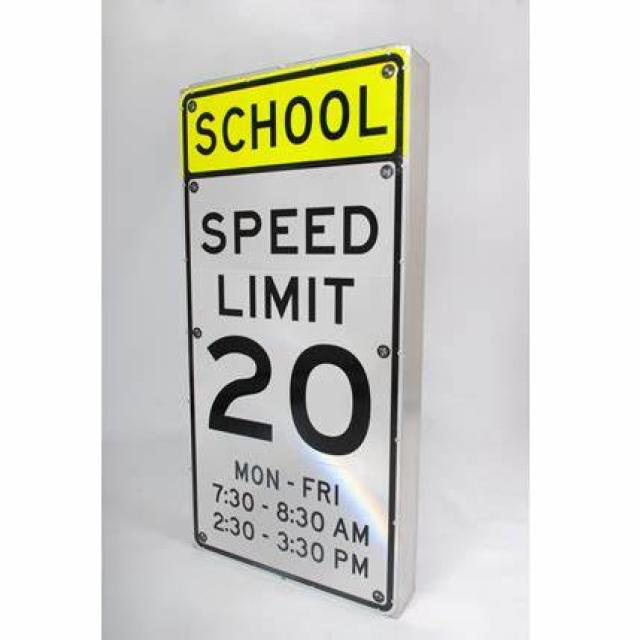speedLimit20: (182, 172, 404, 610)
